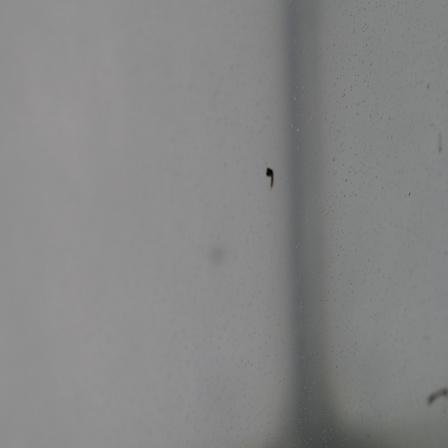Jentik-Nyamuk: (262, 162, 280, 192)
